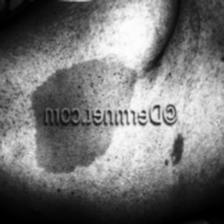Unclassified: (19, 62, 139, 105), (20, 127, 119, 173), (169, 134, 185, 168)
